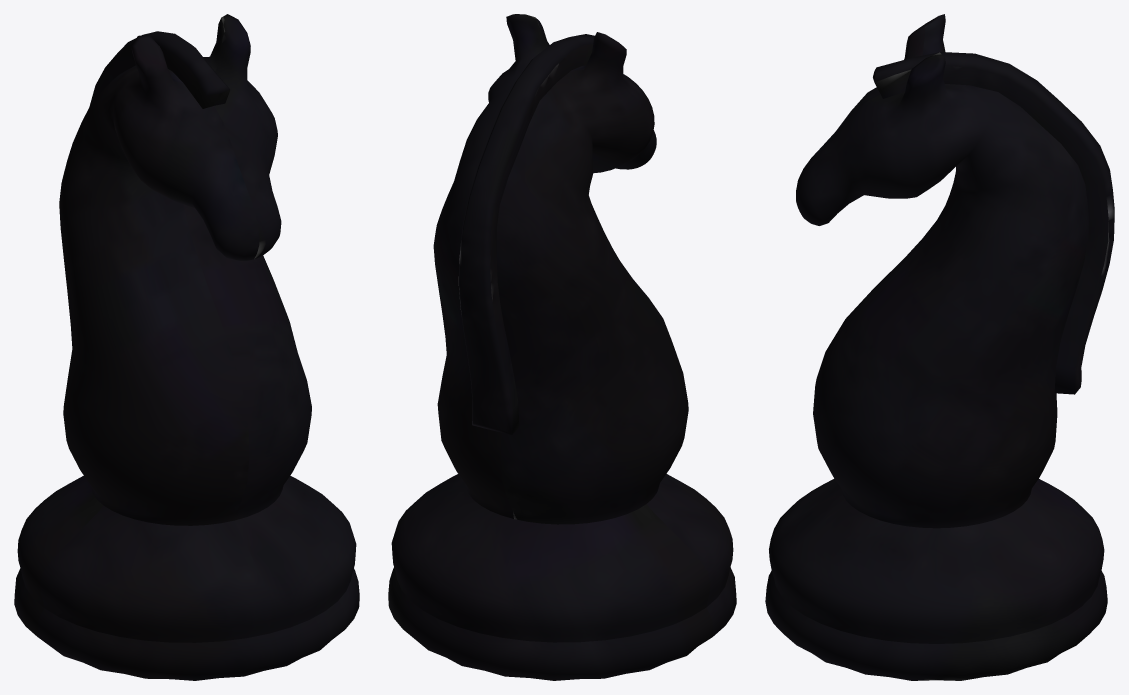
Rendered from Caballo_Negro.glb.
The picture shows the model from 3 angles, left to right: view 1: azimuth 30°, elevation 25°; view 2: azimuth 150°, elevation 25°; view 3: azimuth 270°, elevation 25°; orthographic projection.
Parts seen in each view (by area): view 1: caballo_b; view 2: caballo_b; view 3: caballo_b.
Part boxes in pixels (x1,y1,x2,y2): caballo_b: (14, 14, 359, 680); caballo_b: (388, 14, 736, 680); caballo_b: (765, 14, 1114, 680).
Bounding box in the file's own units: 0.7827 × 1.46 × 0.7982.
Materials: 1 (1 with a texture image).
